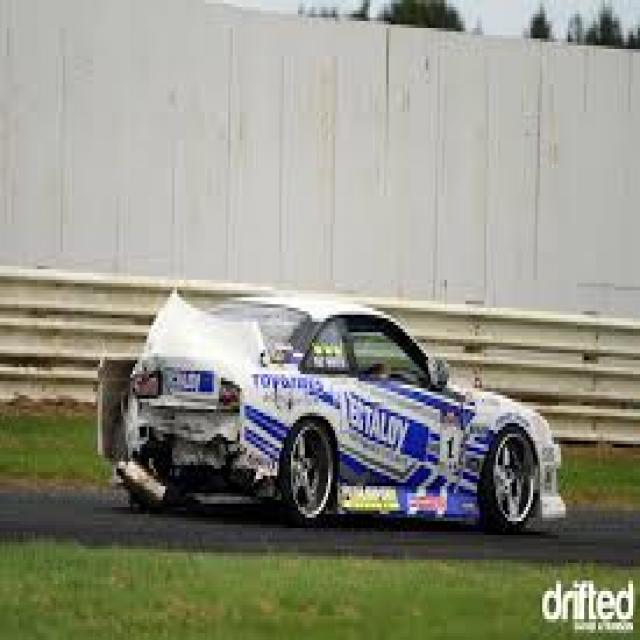moderate: (85, 318, 338, 518)
